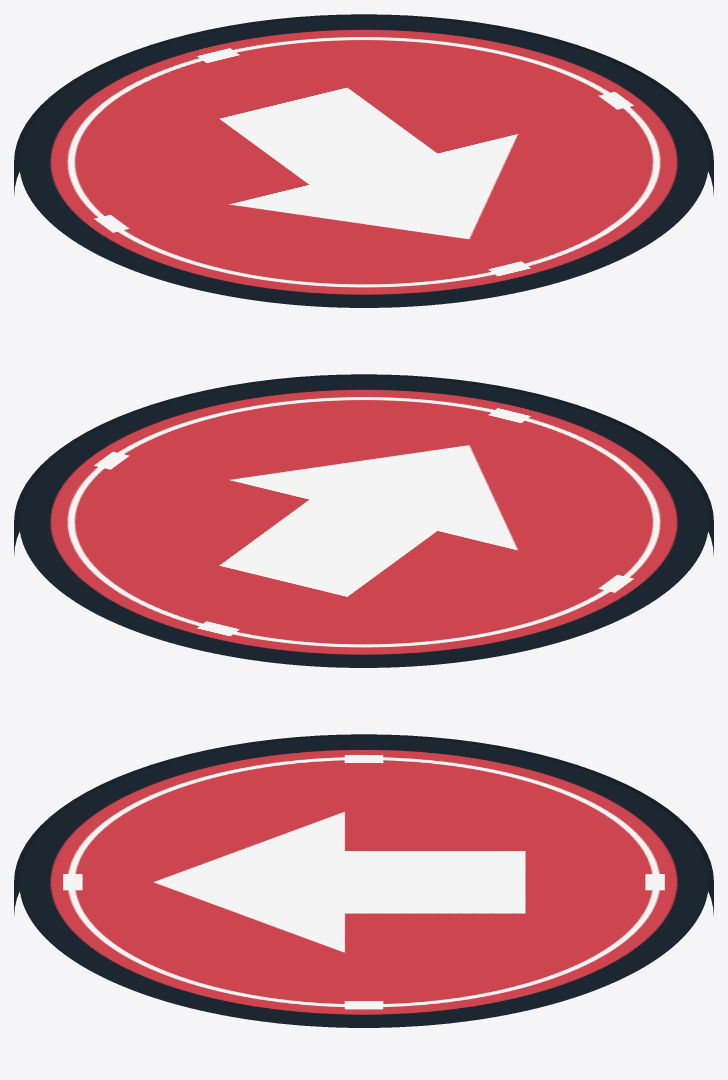
3 renders of one model, top to bottom at view 1: azimuth 30°, elevation 25°; view 2: azimuth 150°, elevation 25°; view 3: azimuth 270°, elevation 25°, orthographic.
Size of the model in its own units: 2.5 by 0.14 by 2.5.
Materials: 2 (2 with a texture image).
